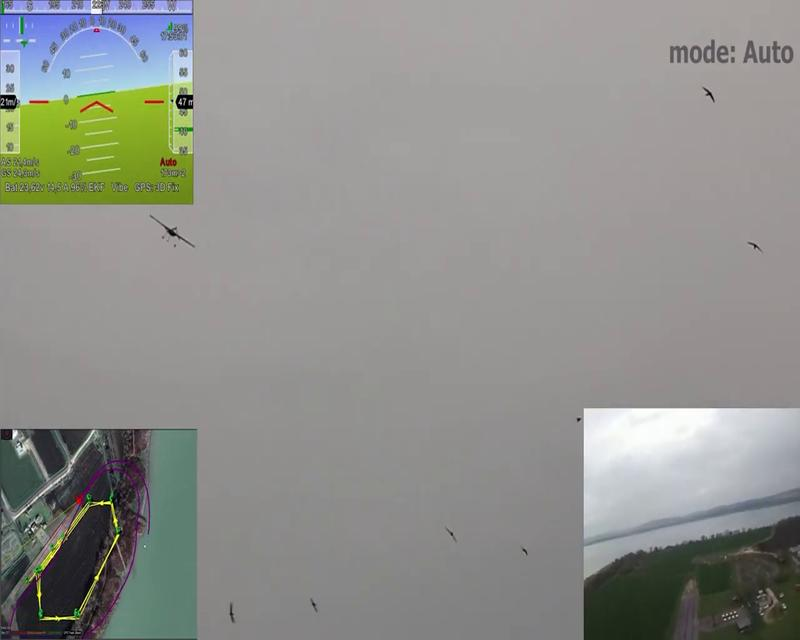UAV: (0, 0, 195, 204), (148, 210, 195, 251)
